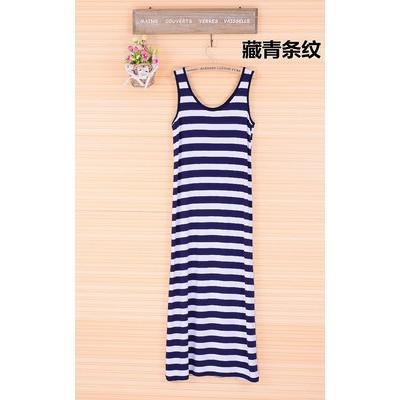Dresses: (171, 68, 258, 379)
